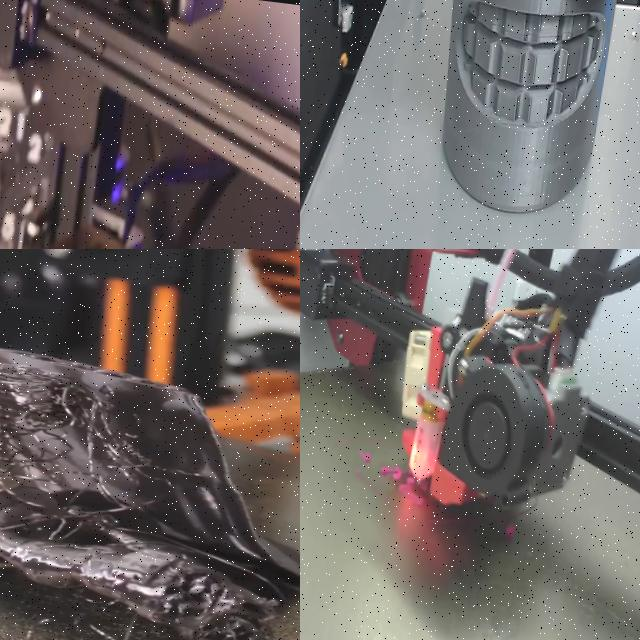spaghetti: (0, 319, 223, 640), (379, 464, 429, 504), (503, 523, 516, 541), (359, 451, 372, 463)
